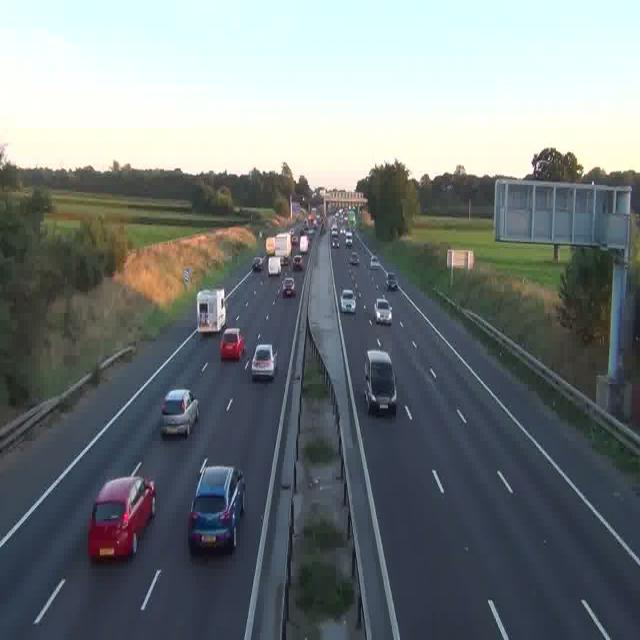car: (88, 476, 156, 560), (188, 465, 246, 552), (363, 350, 397, 414), (160, 389, 199, 436), (251, 344, 276, 380), (220, 328, 244, 360), (374, 298, 392, 324), (340, 288, 356, 313), (282, 277, 295, 296), (386, 273, 398, 290), (291, 254, 303, 270), (252, 258, 264, 272), (349, 253, 359, 266), (368, 254, 378, 267), (332, 237, 339, 248)
truck: (197, 288, 226, 333), (266, 234, 286, 269), (268, 256, 282, 276), (298, 234, 308, 253)
